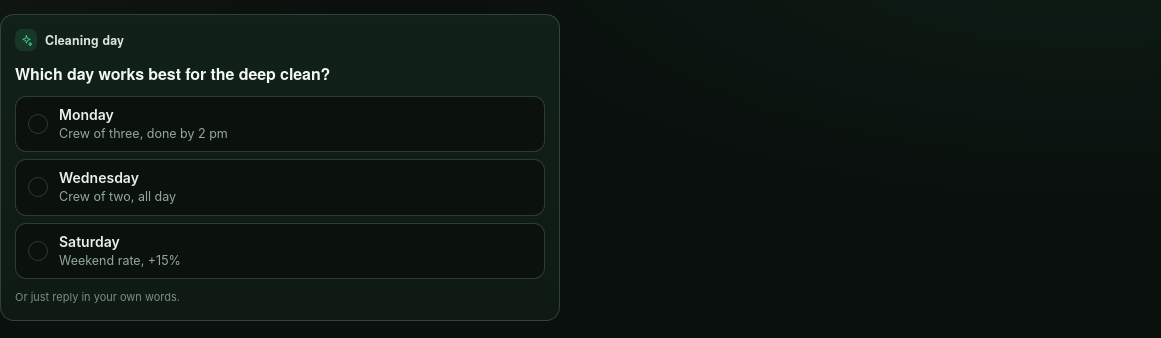
Test: Ada choice cards › sends a one-question, one-pick card on the first tap
Check: the element that starts with "Monday" is shown, box 15,96 -> 545,279
Check: the text "Crew of two, all day" is shown, box 59,188 -> 176,206
Click the radio button labelled "Wednesday Crew of two, all day". click: point(99, 178)
box: 15,159 -> 545,216
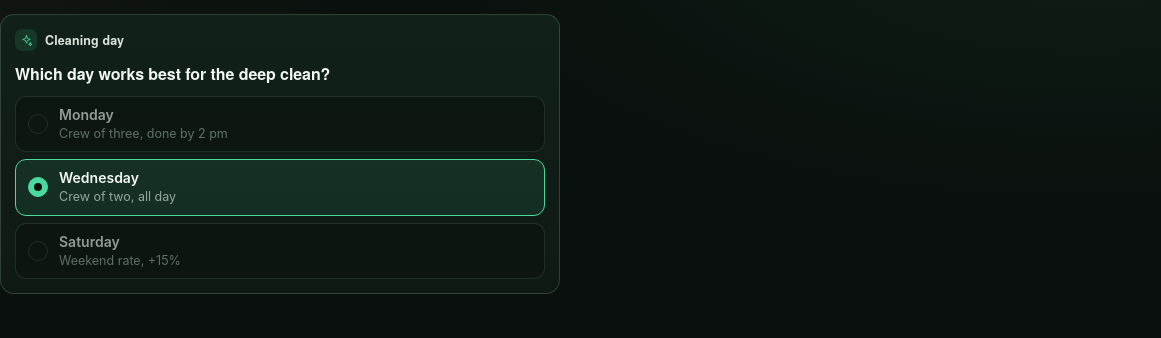
Check: the radio button labelled "Monday Crew of three, done by 2 pm" is disabled, box 15,96 -> 545,152
